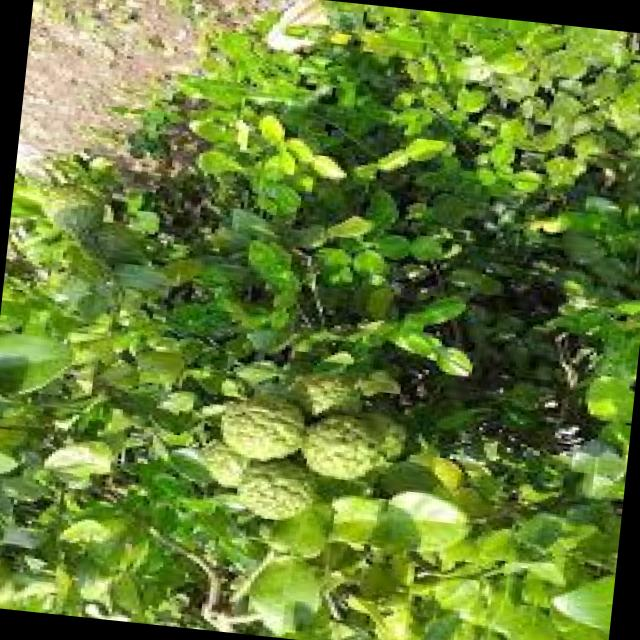Chuc: (294, 404, 406, 488), (212, 388, 306, 466), (230, 454, 318, 524), (290, 366, 361, 421), (190, 438, 244, 490)
